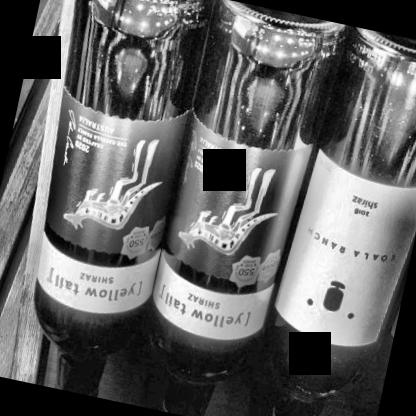yellowtail: (145, 100, 313, 352), (21, 79, 190, 328)
